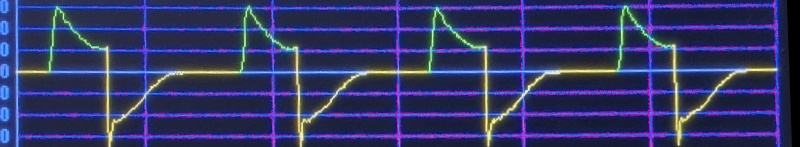normal_flow: (19, 1, 735, 147)
